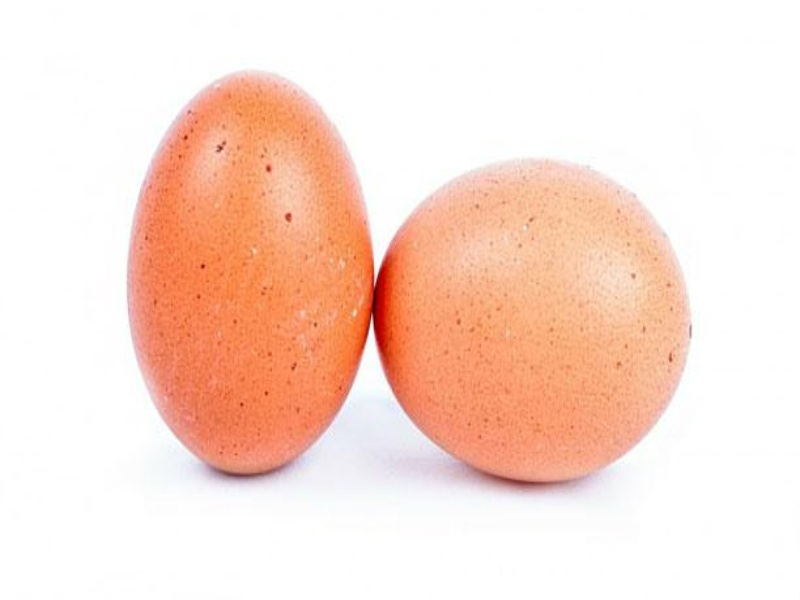Huevo: (375, 159, 692, 483), (126, 72, 376, 476)
